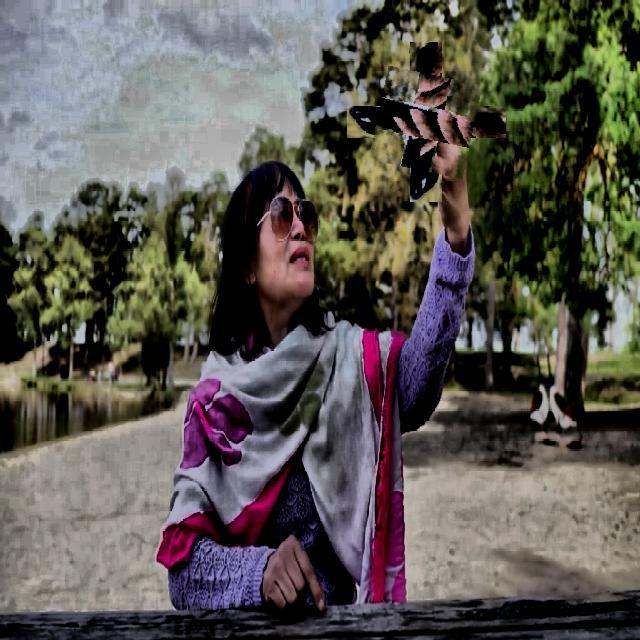Phone: (374, 70, 478, 175)
